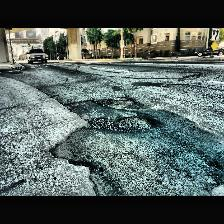pothole: (84, 114, 156, 134), (88, 97, 134, 109)
